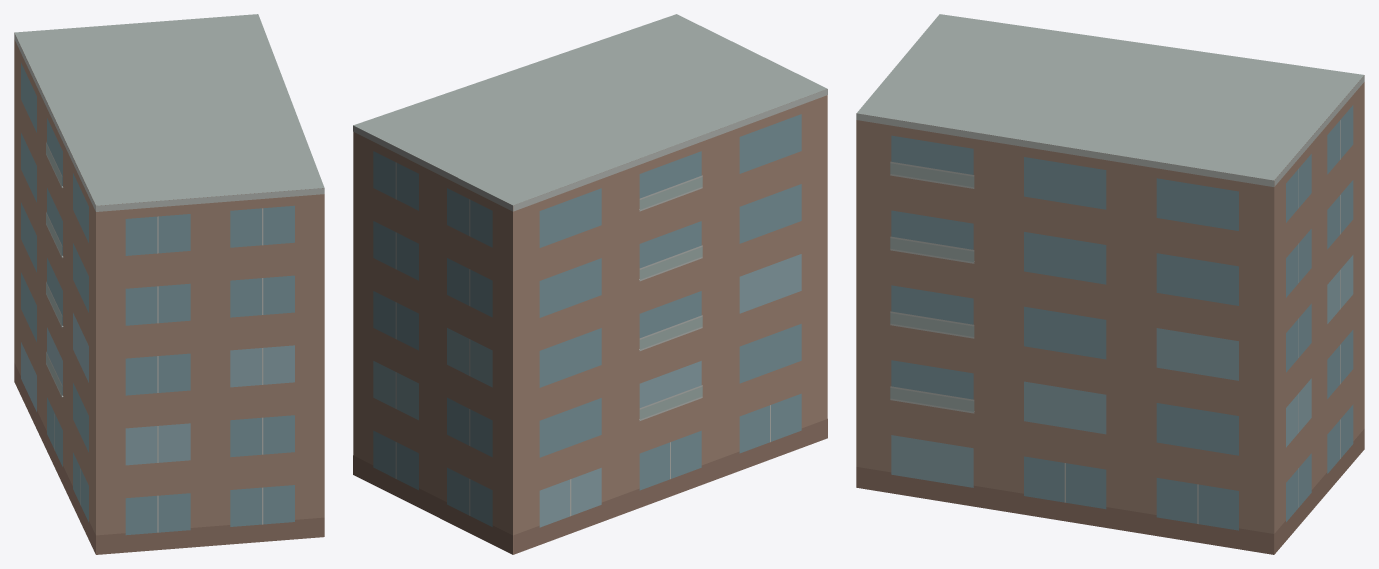
Rendered from survey-upis-32890038.glb.
The picture shows the model from 3 angles, left to right: view 1: azimuth 30°, elevation 25°; view 2: azimuth 150°, elevation 25°; view 3: azimuth 270°, elevation 25°; orthographic projection. The views are drawn at different scales.
Visible parts, largest first — view 1: survey-upis-32890038.tmp; view 2: survey-upis-32890038.tmp; view 3: survey-upis-32890038.tmp.
Part boxes in pixels (x1,y1,x2,y2): survey-upis-32890038.tmp: (14,14,324,554); survey-upis-32890038.tmp: (353,14,827,554); survey-upis-32890038.tmp: (856,14,1364,554).
Size of the model in its own units: 13.08 by 13.7 by 16.86.
